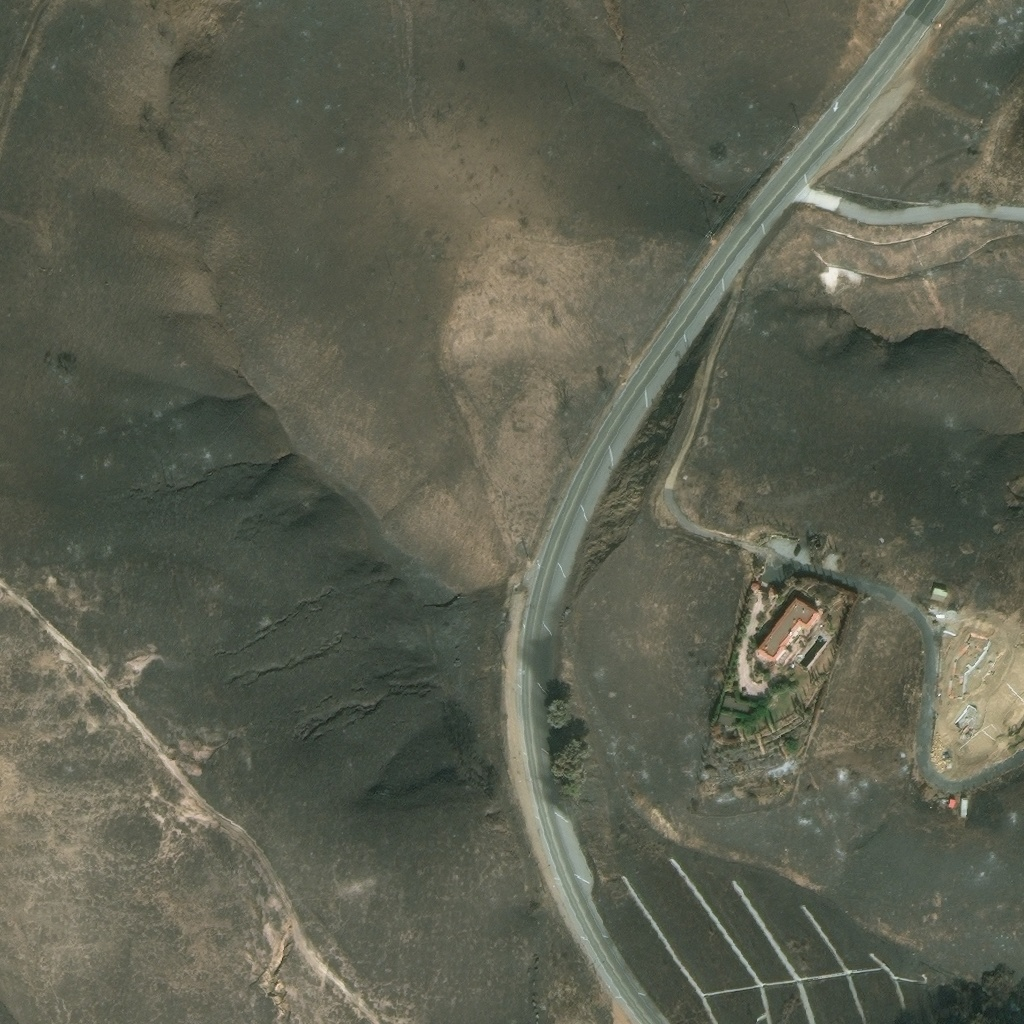0 no-damage: (753, 595, 818, 675), (721, 692, 753, 714), (717, 713, 737, 726), (932, 585, 947, 596), (959, 797, 967, 816), (748, 579, 759, 590), (765, 584, 776, 593), (946, 797, 954, 807), (946, 750, 951, 755)
3 destroyed: (810, 538, 821, 548)
